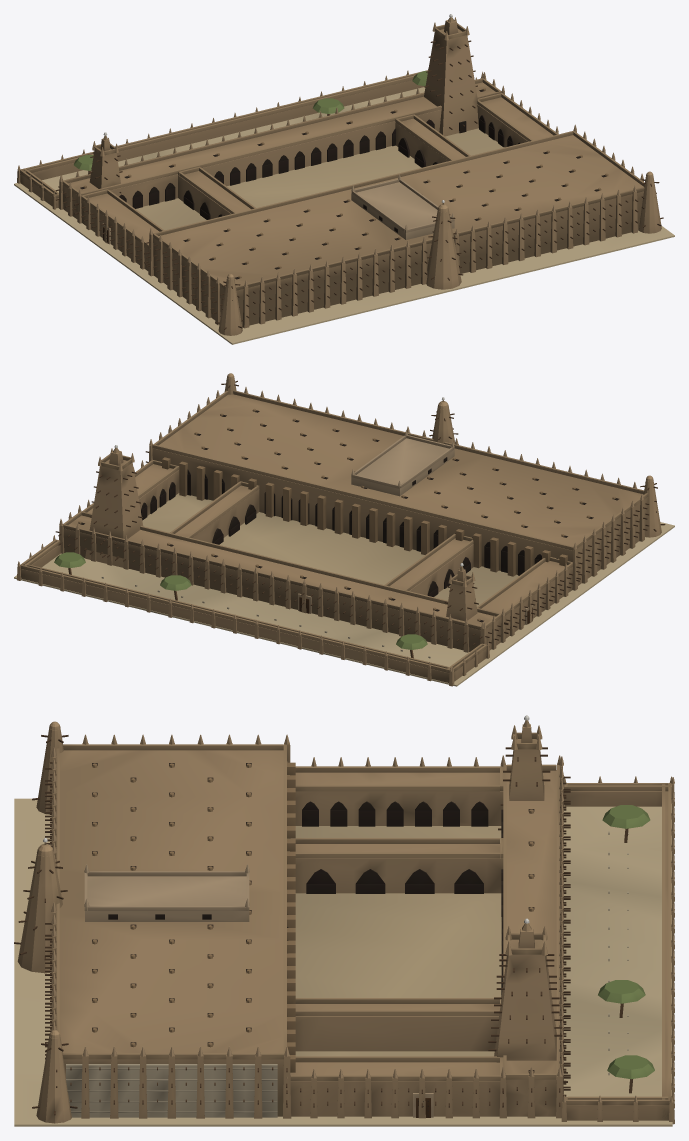
Rendered from djinguereber-1700.glb.
3 views of the same model, one above another, from view 1: azimuth 30°, elevation 25°; view 2: azimuth 150°, elevation 25°; view 3: azimuth 270°, elevation 25° (orthographic). The views are drawn at different scales.
Visible parts, largest first — view 1: p1_walls, p0_ground, p3_minaret, p2_roof; view 2: p1_walls, p0_ground, p2_roof, p3_minaret; view 3: p1_walls, p0_ground, p3_minaret, p2_roof.
Part boxes in pixels (x1,y1,x2,y2): p1_walls: (17,68,656,328); p0_ground: (14,71,674,344); p3_minaret: (88,14,663,335); p2_roof: (80,88,608,279); p1_walls: (17,387,656,686); p0_ground: (14,493,674,686); p2_roof: (78,408,618,622); p3_minaret: (85,373,665,621); p1_walls: (45,734,674,1124); p0_ground: (14,798,672,1126); p3_minaret: (14,715,567,1123); p2_roof: (84,762,534,1073).
Bounding box in the file's own units: 82.33 × 19.78 × 70.31.
